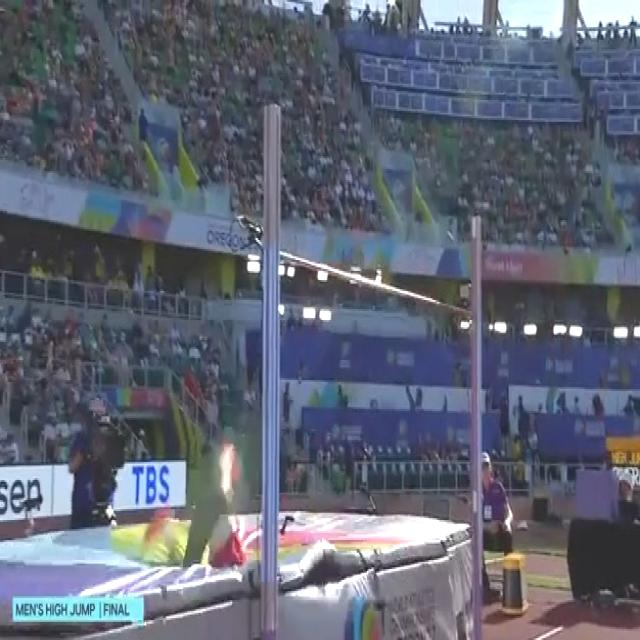land: (142, 419, 249, 572)
